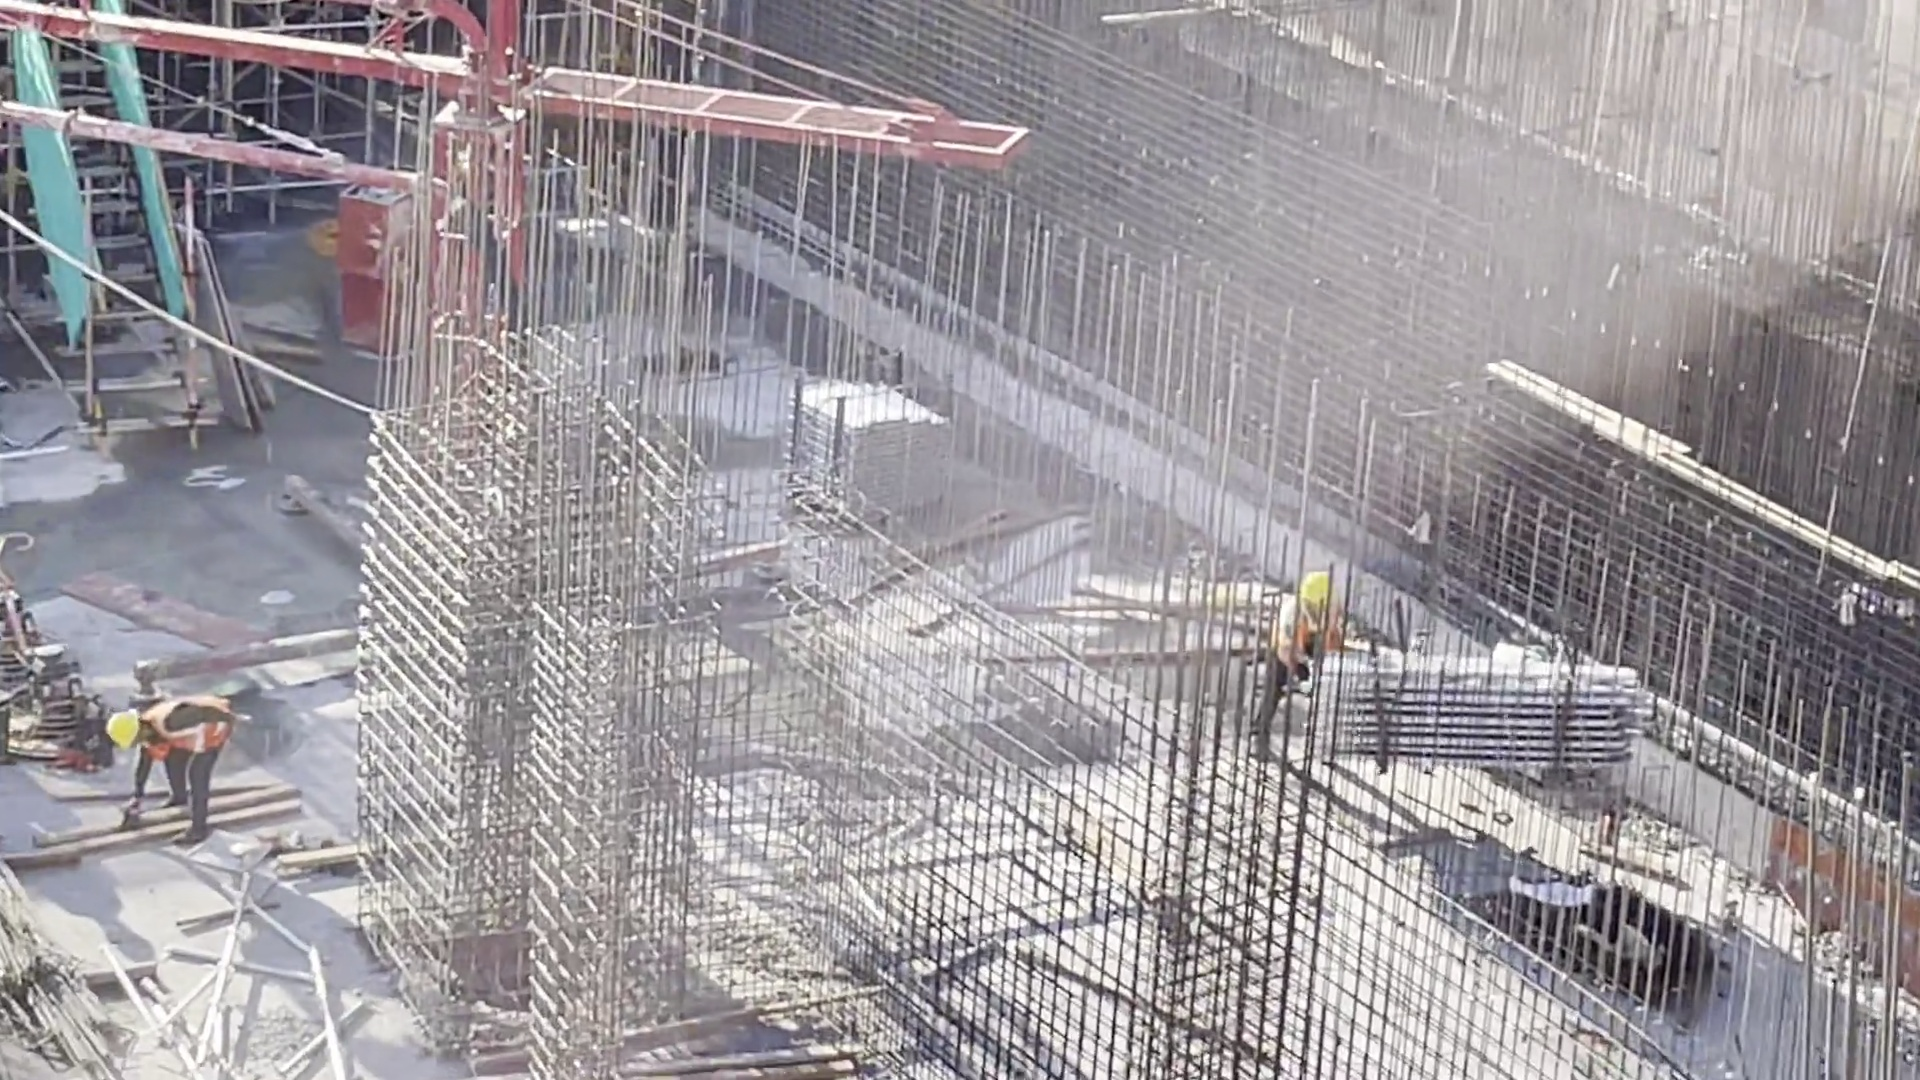helmet: (1292, 568, 1336, 609), (106, 708, 140, 756)
person: (107, 691, 241, 871), (1262, 578, 1364, 780)
scaffold: (1332, 655, 1690, 783), (787, 378, 980, 537)
vest: (146, 701, 229, 767), (1265, 610, 1343, 674)
